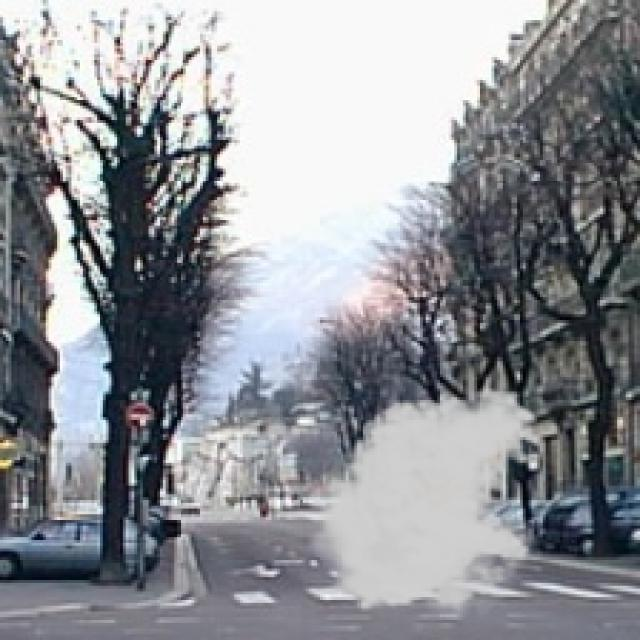smoke: (297, 386, 546, 626)
